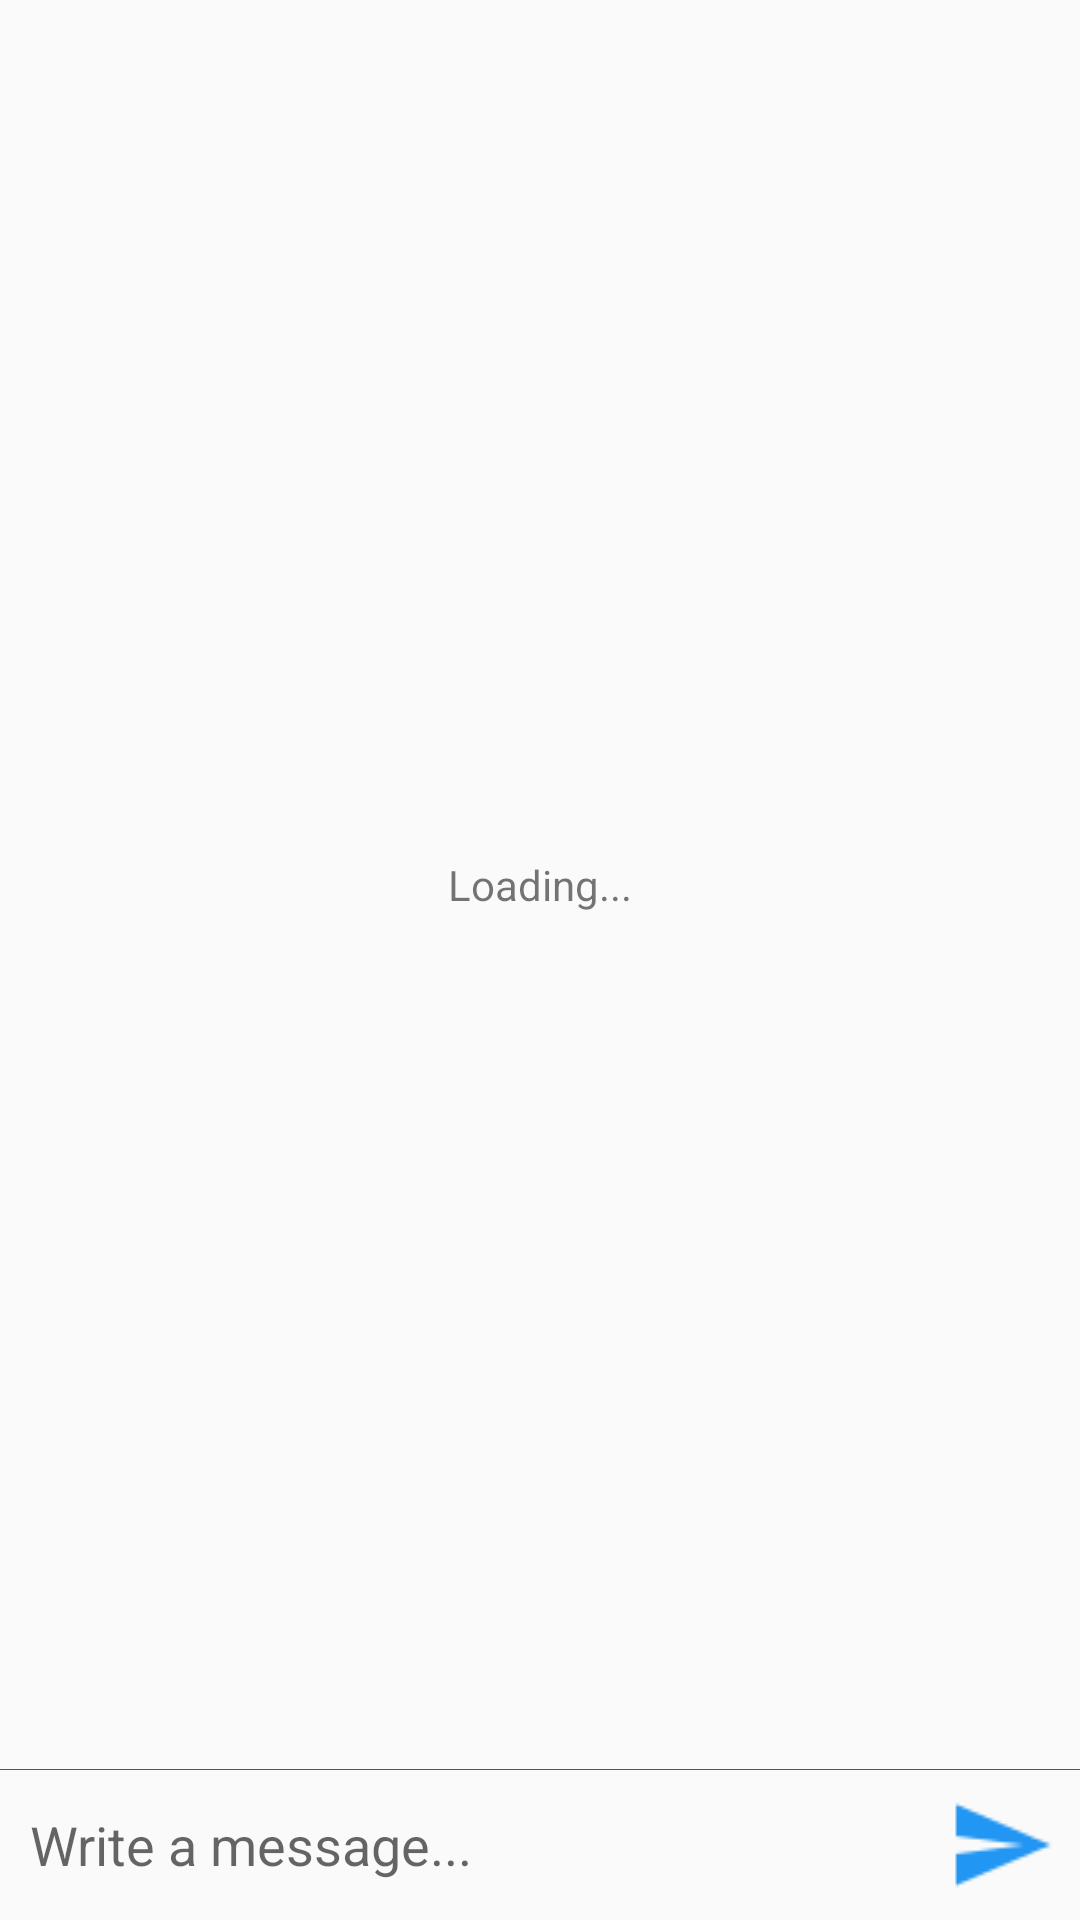

Screen size 1080x1920. Icon name, then its box in pixels as (x1, y1, x2, y2):
send: (955, 1803, 1050, 1887)
